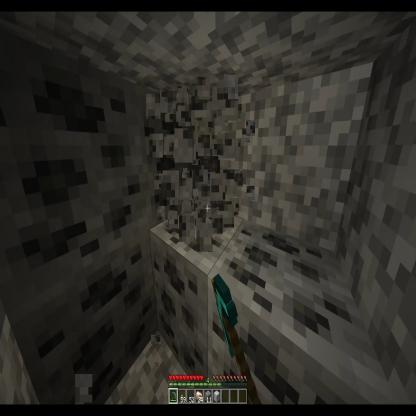coal ore: (206, 214, 382, 416), (0, 65, 148, 284), (15, 234, 154, 415), (148, 208, 244, 394)
